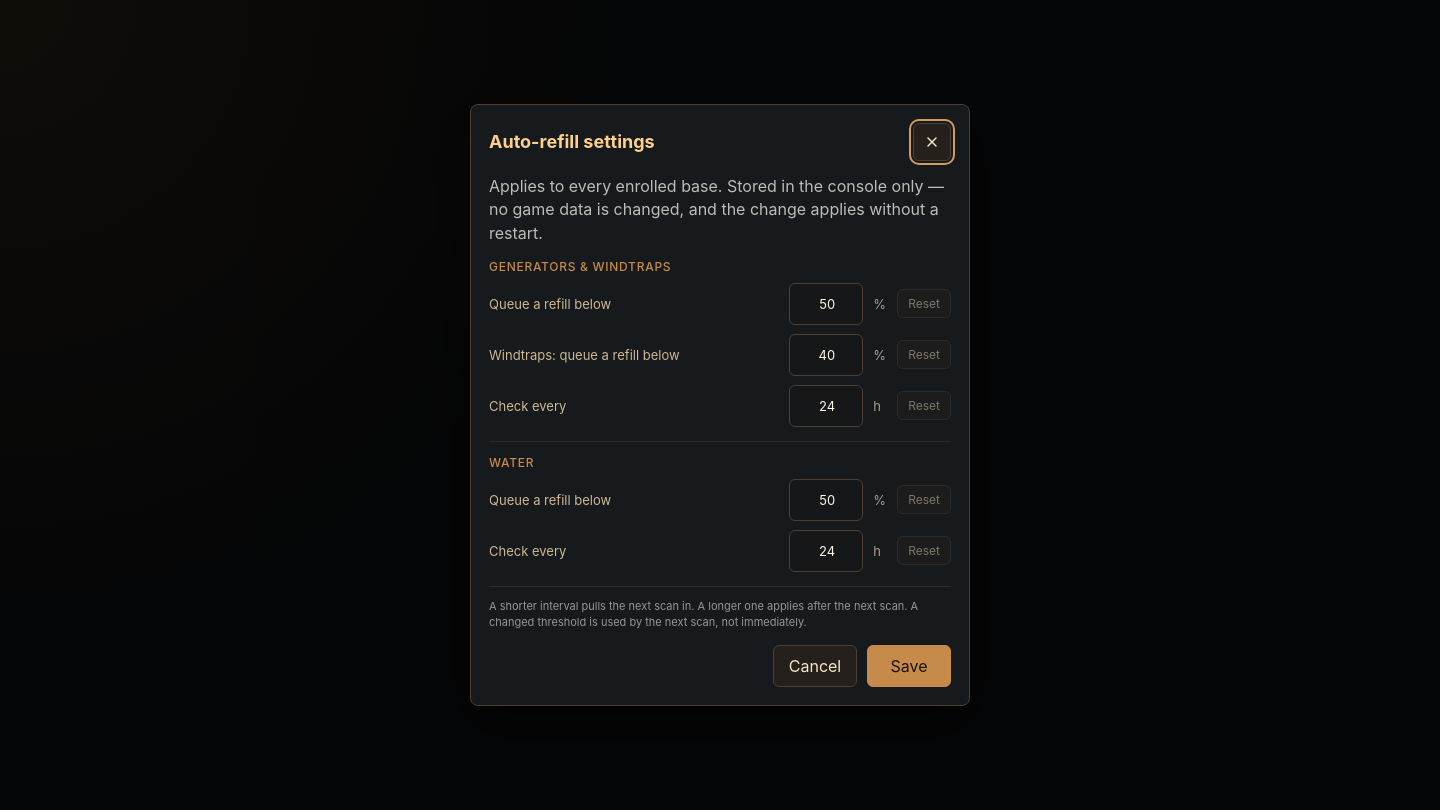
Scenario: AutoRefillSettingsOverlay › Reset is disabled for a field that is not overridden
Expected: the button with aria-label "Reset generators queue a refill below" is disabled, [897, 289, 951, 318]
Replace the text in the number field named "Generators: Queue a refill below (%)" with "40" at (826, 304), box [789, 283, 863, 325]
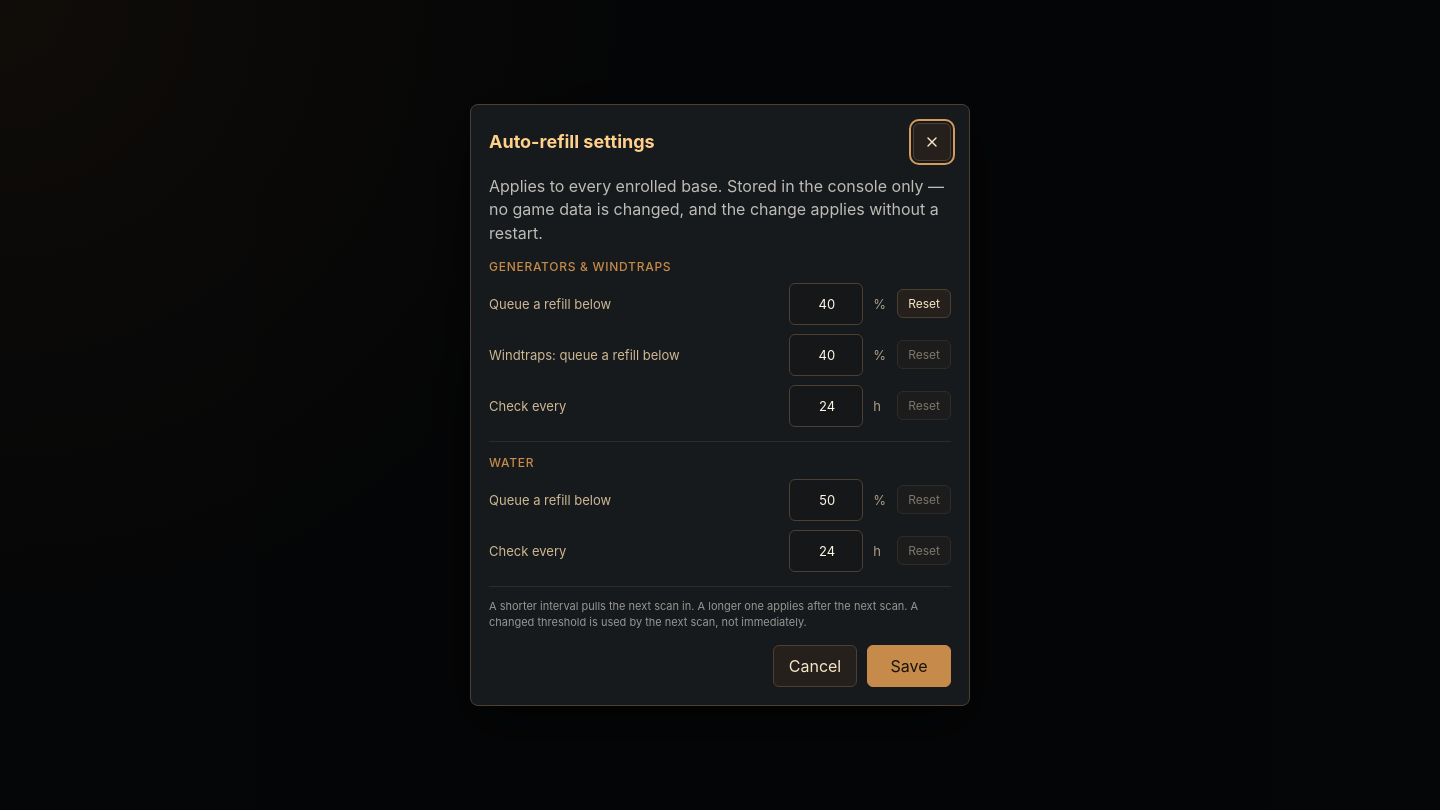
Now the button with aria-label "Reset generators queue a refill below" is enabled, box [897, 289, 951, 318]
